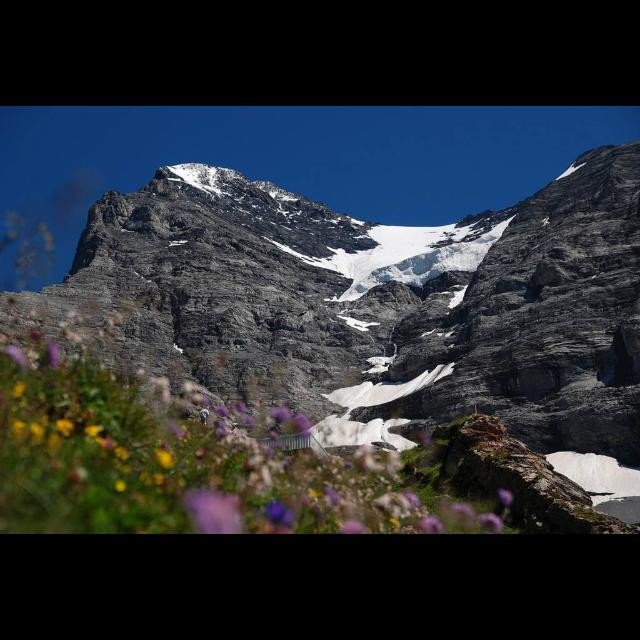Flower: (1, 338, 440, 534), (476, 514, 502, 532), (450, 503, 474, 521), (500, 492, 516, 511)
